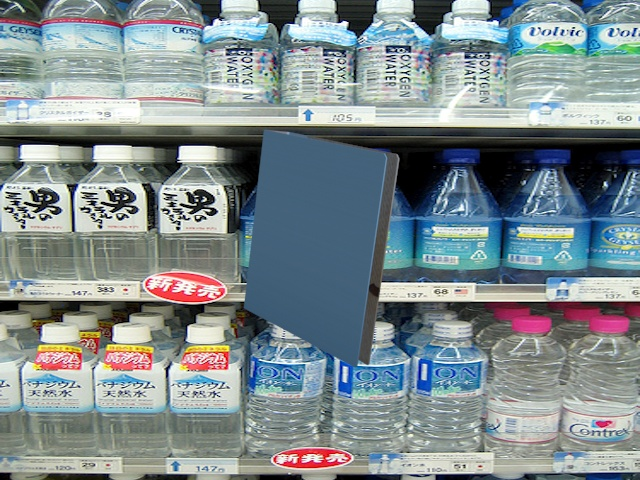ring_binder: (240, 128, 400, 369)
